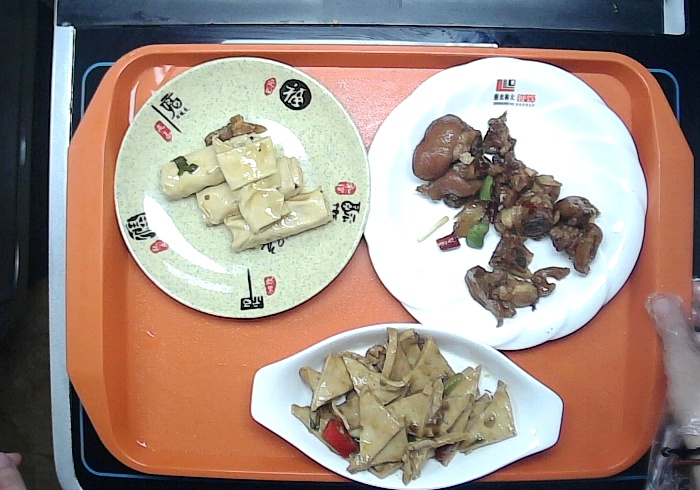NLDX-Bai_Zhe_Yuan_Pan: (360, 52, 650, 354)
NLDX-Fu_Zi_Yuan_Pan: (109, 53, 374, 320)
NLDX-Yu_Pan: (246, 322, 564, 490)
